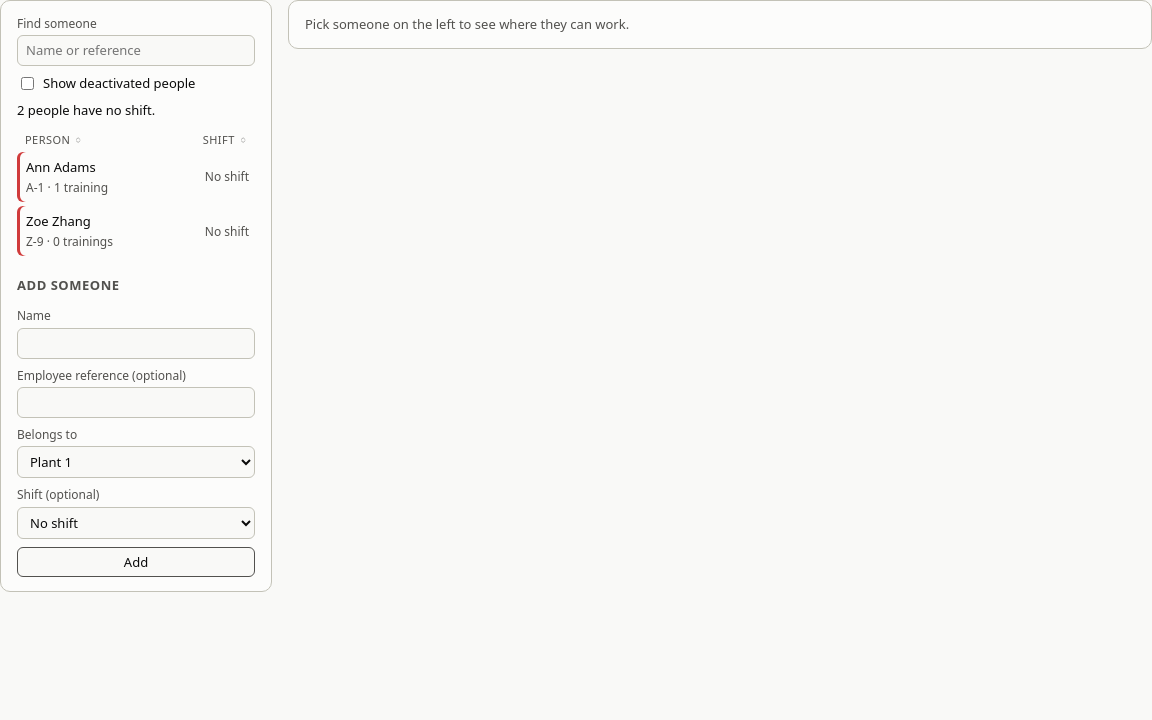
Test: OperatorsPanel — where somebody can work has THREE answers (§19.77) › O1: a place in their own area whose trainings they hold reads ✓ and says so
Click the button "Ann Adams A-1 · 1 training": click(105, 177) [17,152,193,202]
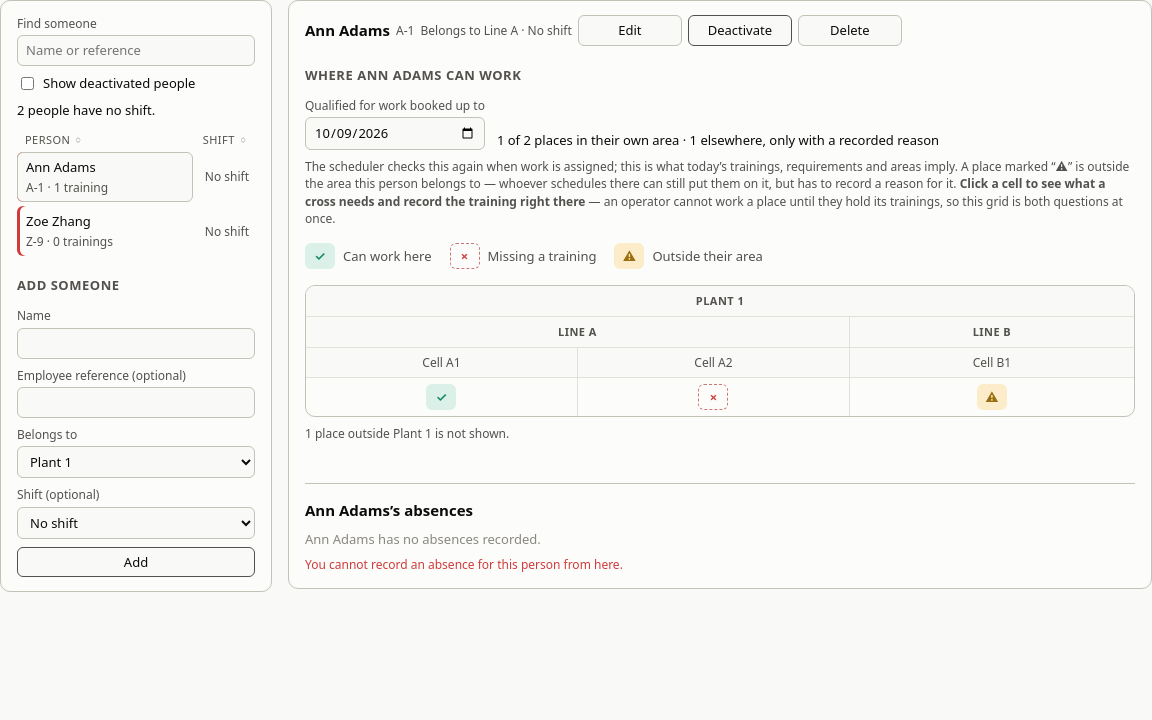
Expected: the text "✓" below "Cell A1" is shown, [436,388,447,406]
